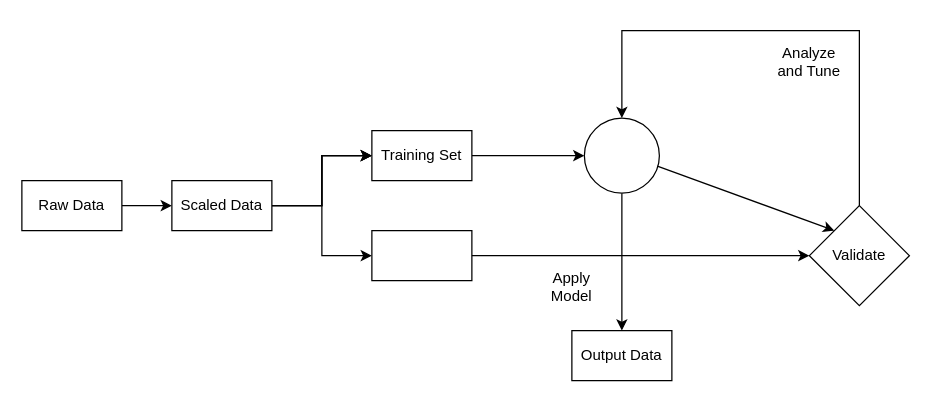
Image size: 931x403. Some labels were removed from this diagram. The shapes that lost their labels are listed below. From the top down, each one's centre as x and y in pixels, then its label:
At pixel 621 155: "Build Model".
At pixel 421 255: "Validation Set".
